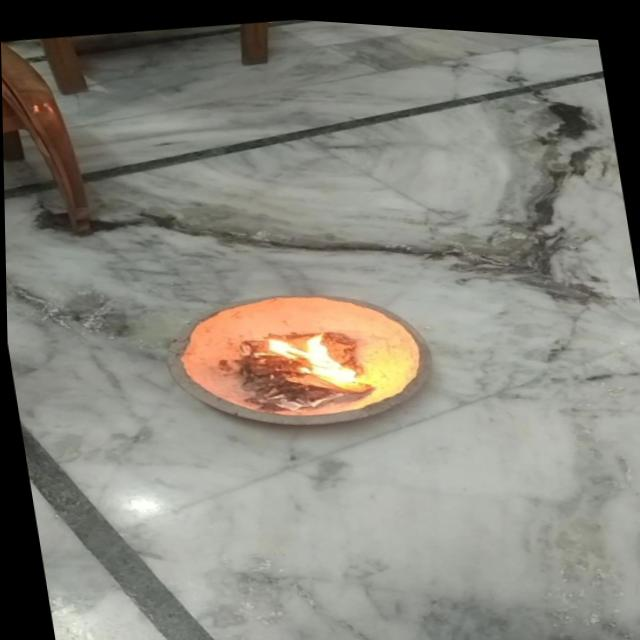fire: (256, 315, 362, 390)
